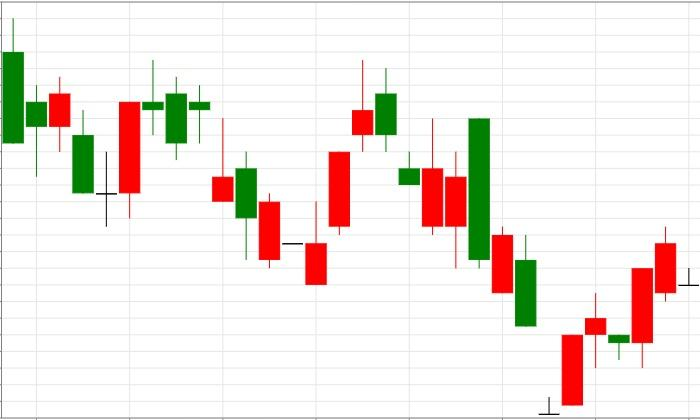inverse_hammer_rise: (142, 59, 235, 203)
morning_star_rise: (2, 18, 142, 227)
three_white_soldiers_rise: (165, 60, 374, 286)
